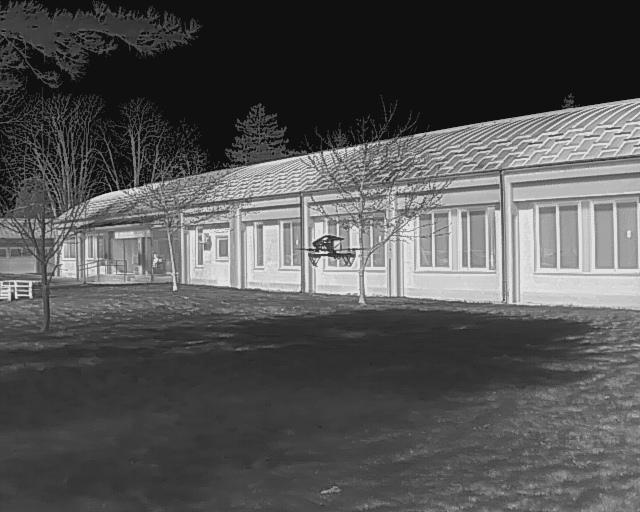drone: (293, 230, 374, 274)
